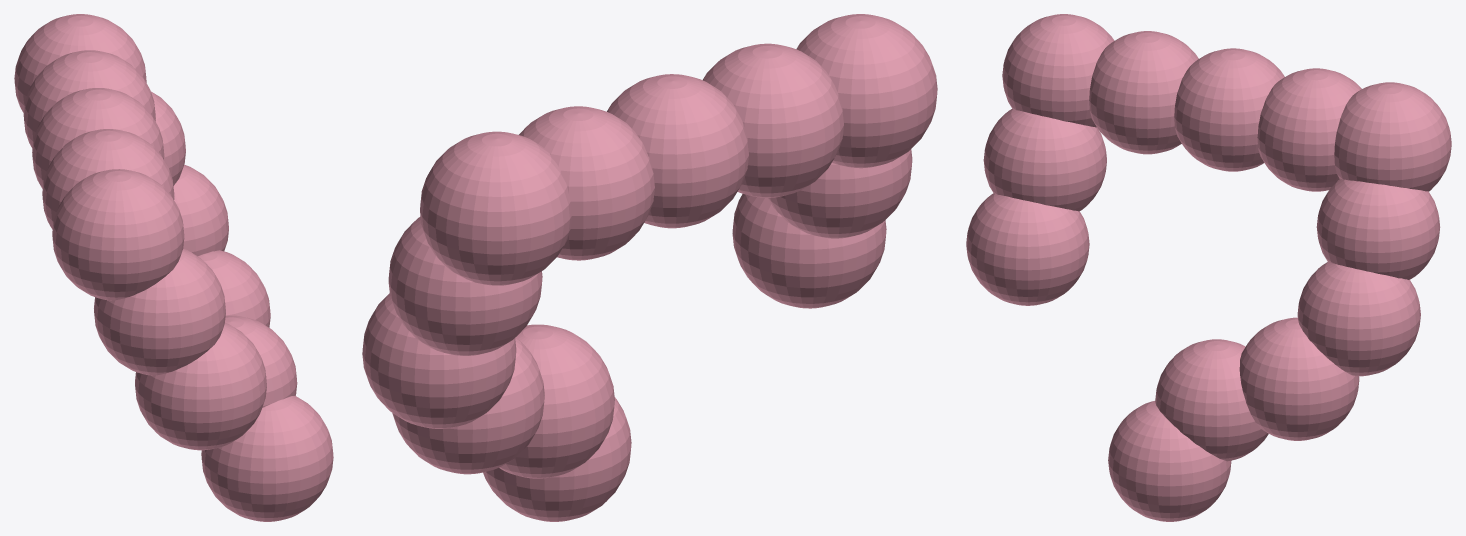
The model's file is colon.fbx.
The picture shows the model from 3 angles, left to right: view 1: azimuth 30°, elevation 25°; view 2: azimuth 150°, elevation 25°; view 3: azimuth 270°, elevation 25°; orthographic projection. The views are drawn at different scales.
Parts seen in each view (by area): view 1: node_id10, node_id28, node_id8, node_id6, node_id14, node_id12, node_id16, node_id18, node_id22, node_id24, node_id26, node_id20; view 2: node_id18, node_id12, node_id14, node_id10, node_id16, node_id22, node_id20, node_id8, node_id26, node_id24, node_id6, node_id28; view 3: node_id8, node_id22, node_id18, node_id24, node_id20, node_id12, node_id6, node_id14, node_id28, node_id26, node_id16, node_id10.
Boxes of the visible parts, <box> form: node_id10: <box>52,169,184,300</box>; node_id28: <box>201,396,333,521</box>; node_id8: <box>135,322,266,450</box>; node_id6: <box>94,248,225,375</box>; node_id14: <box>32,88,164,188</box>; node_id12: <box>42,129,174,229</box>; node_id16: <box>23,50,155,148</box>; node_id18: <box>14,14,146,112</box>; node_id22: <box>173,164,228,256</box>; node_id24: <box>198,250,270,327</box>; node_id26: <box>225,315,297,407</box>; node_id20: <box>151,91,185,185</box>; node_id18: <box>420,131,571,285</box>; node_id12: <box>703,43,843,197</box>; node_id14: <box>607,74,748,228</box>; node_id10: <box>796,14,937,168</box>; node_id16: <box>519,106,654,260</box>; node_id22: <box>362,293,516,428</box>; node_id20: <box>388,216,542,355</box>; node_id8: <box>732,194,886,308</box>; node_id26: <box>499,324,614,478</box>; node_id24: <box>392,337,544,474</box>; node_id6: <box>768,149,912,238</box>; node_id28: <box>483,397,631,521</box>; node_id8: <box>966,193,1089,305</box>; node_id22: <box>1297,262,1420,376</box>; node_id18: <box>1334,82,1451,191</box>; node_id24: <box>1239,317,1359,440</box>; node_id20: <box>1316,179,1440,279</box>; node_id12: <box>1089,31,1198,154</box>; node_id6: <box>983,108,1106,211</box>; node_id14: <box>1174,48,1284,171</box>; node_id28: <box>1108,401,1231,521</box>; node_id26: <box>1155,339,1268,461</box>; node_id16: <box>1257,68,1361,191</box>; node_id10: <box>1002,14,1114,127</box>.
Bounding box in the file's own units: 0.2685 × 0.3399 × 0.3713.
12 materials, 12 textured.
